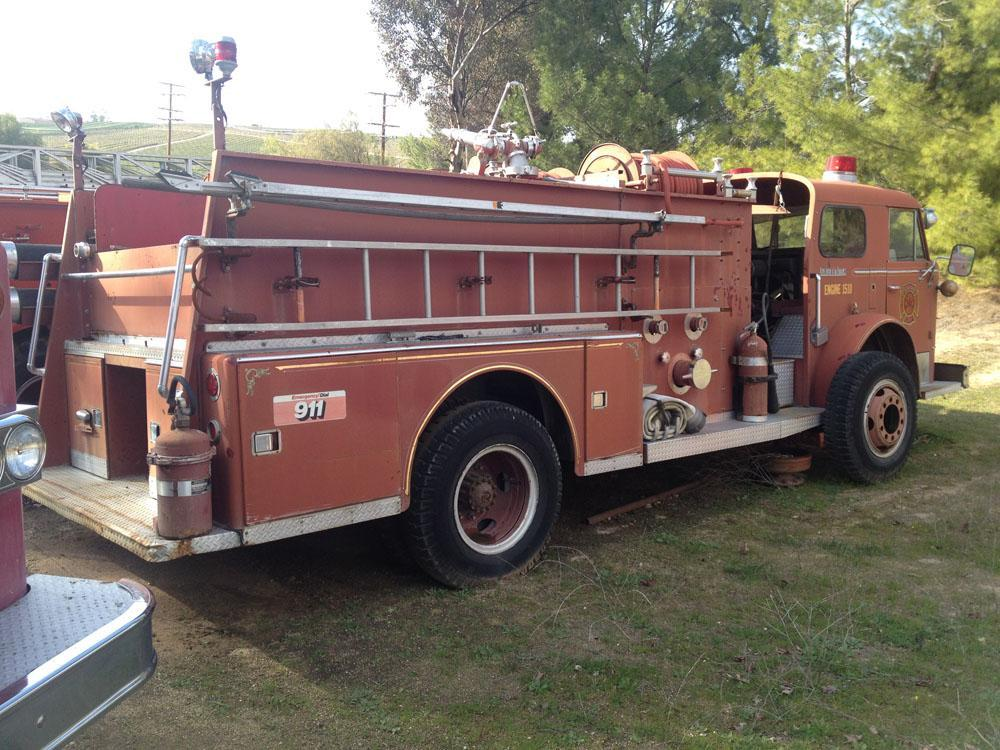Fire-engine: (0, 150, 944, 591)
